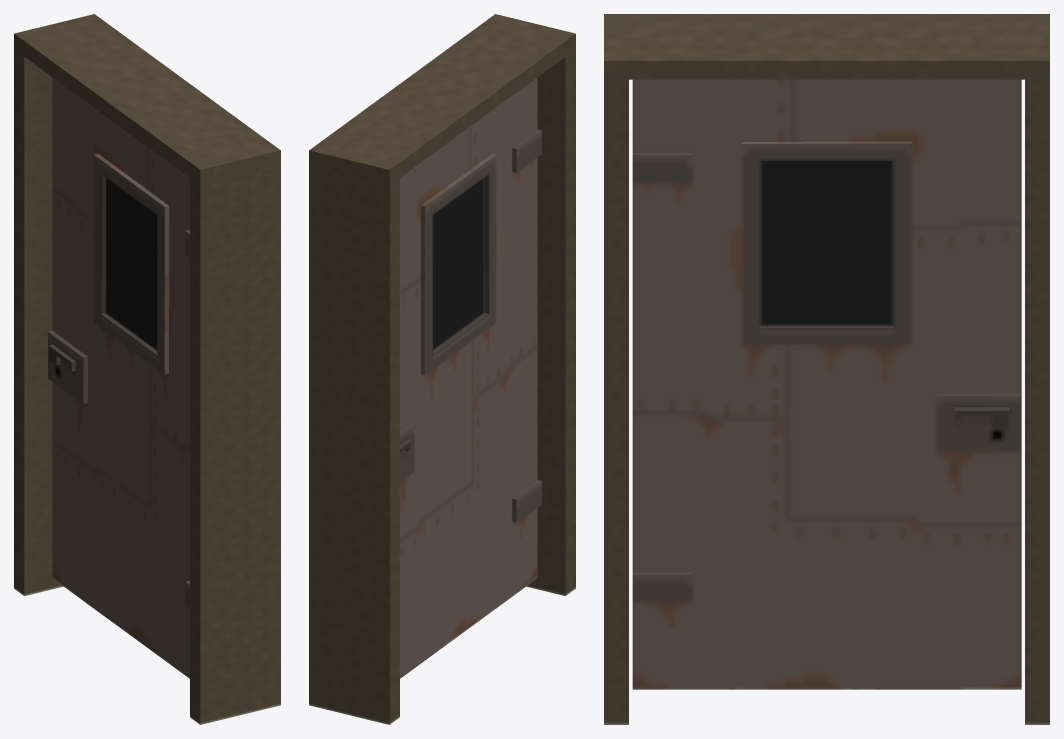
File: obj_doorframe.fbx
3 views of the same model, side by side, from view 1: azimuth 30°, elevation 25°; view 2: azimuth 150°, elevation 25°; view 3: azimuth 270°, elevation 25° (orthographic). The views are drawn at different scales.
Visible parts, largest first — view 1: obj_doorframe, obj_door; view 2: obj_doorframe, obj_door; view 3: obj_door, obj_doorframe.
Part boxes in pixels (<box>): obj_doorframe: <box>14,14,280,724</box>; obj_door: <box>48,77,189,678</box>; obj_doorframe: <box>309,14,575,724</box>; obj_door: <box>400,77,541,678</box>; obj_door: <box>632,79,1021,689</box>; obj_doorframe: <box>604,14,1049,724</box>.
Size of the model in its own units: 26.83 by 177 by 108.
